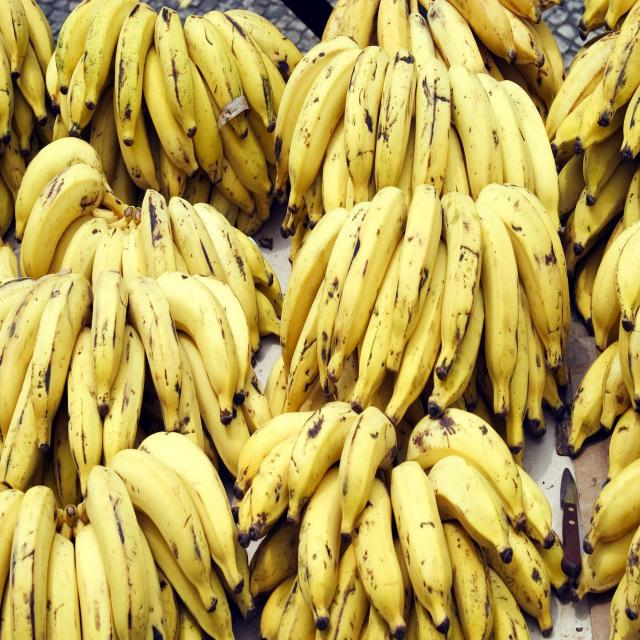banana: (234, 398, 567, 640), (278, 198, 566, 445), (270, 31, 565, 256), (0, 267, 250, 511), (47, 0, 308, 224), (9, 137, 272, 359), (0, 430, 255, 640)
